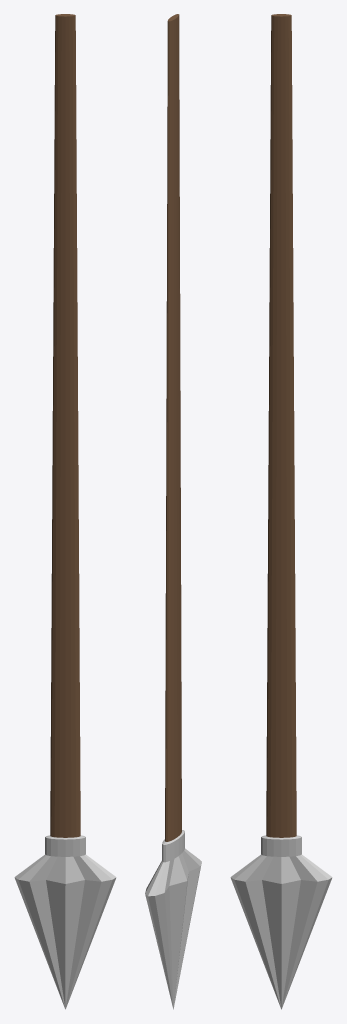
File: _pear.fbx
3 views of the same model, side by side, from view 1: azimuth 90°, elevation 25°; view 2: azimuth 150°, elevation 25°; view 3: azimuth 270°, elevation 25° (orthographic).
Parts seen in each view (by area): view 1: Cone; view 2: Cone; view 3: Cone.
Part boxes in pixels (x1,y1,x2,y2): Cone: (14,14,116,1009); Cone: (145,14,201,1009); Cone: (230,14,332,1009).
Size of the model in its own units: 63.29 by 2149 by 200.
